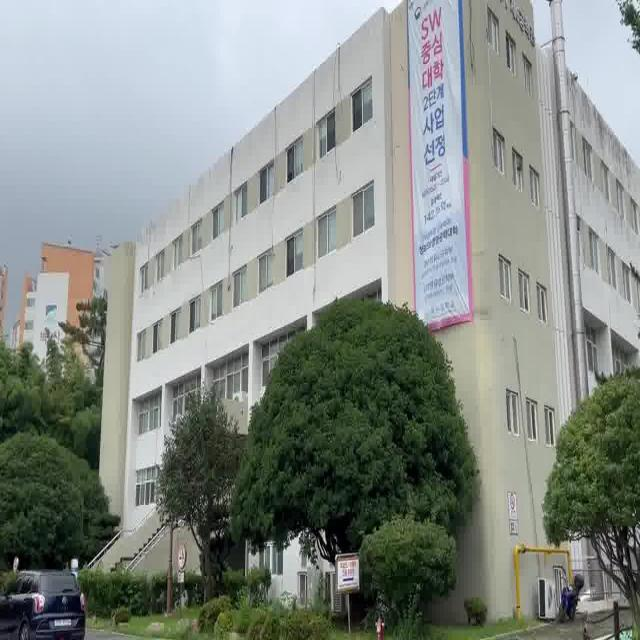building: (98, 52, 400, 300)
